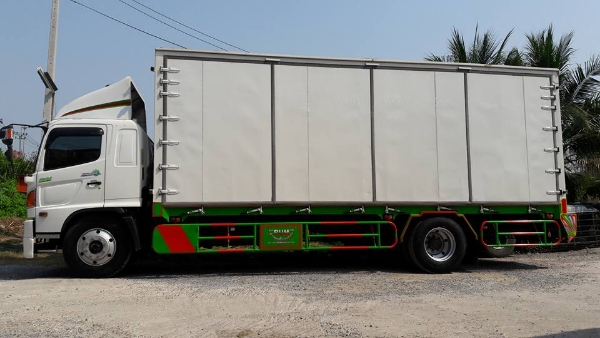truck: (21, 45, 579, 273)
